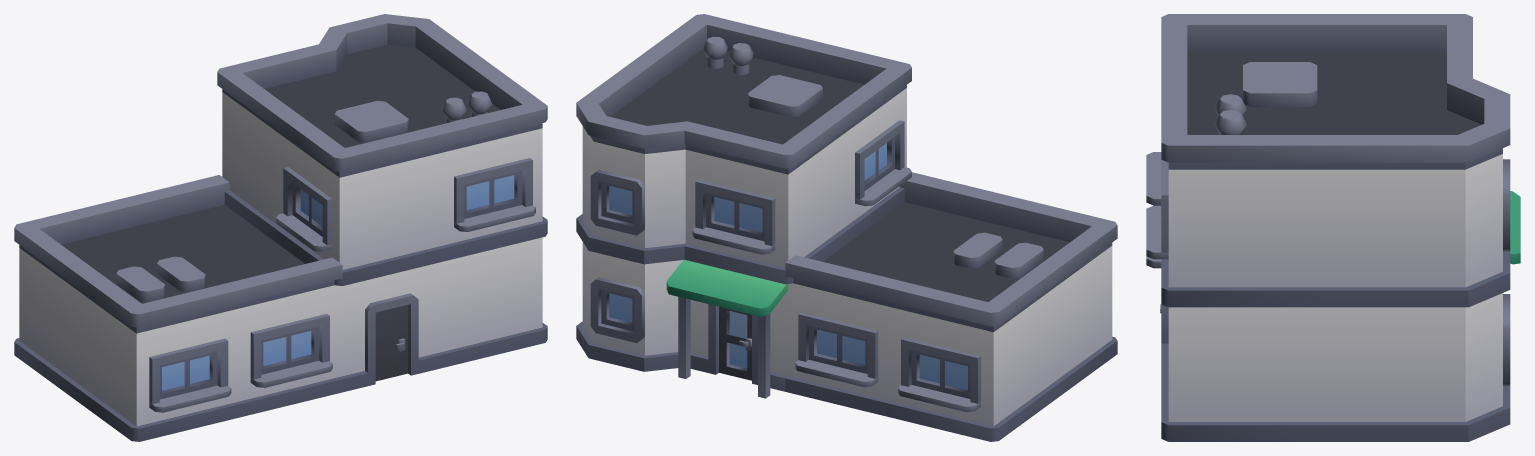
The model's file is Building09.glb.
3 views of the same model, side by side, from view 1: azimuth 30°, elevation 25°; view 2: azimuth 150°, elevation 25°; view 3: azimuth 270°, elevation 25° (orthographic). The views are drawn at different scales.
Visible parts, largest first — view 1: building-e; view 2: building-e; view 3: building-e.
Boxes of the visible parts, bbox=[...] form: building-e: bbox=[14, 14, 547, 441]; building-e: bbox=[576, 14, 1117, 441]; building-e: bbox=[1146, 14, 1520, 441].
Bounding box in the file's own units: 1.64 × 0.893 × 1.01.
Materials: 1 (1 with a texture image).
